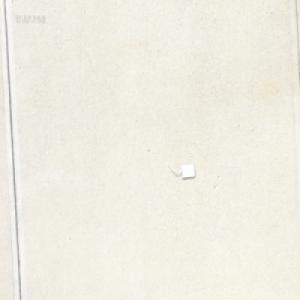LuggageTag: (166, 162, 195, 179)
